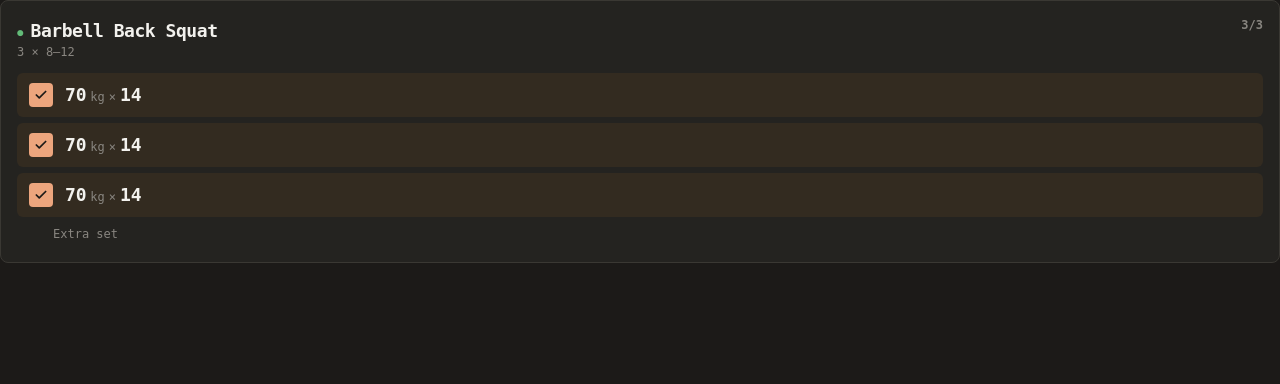
Test: ExerciseCard — Add extra set (Sprint 4 D3b) › tapping the extra-set button twice adds two extras (counter is per-block, additive)
Click the button with aria-label "add extra set": click(86, 234) [53,223,118,246]
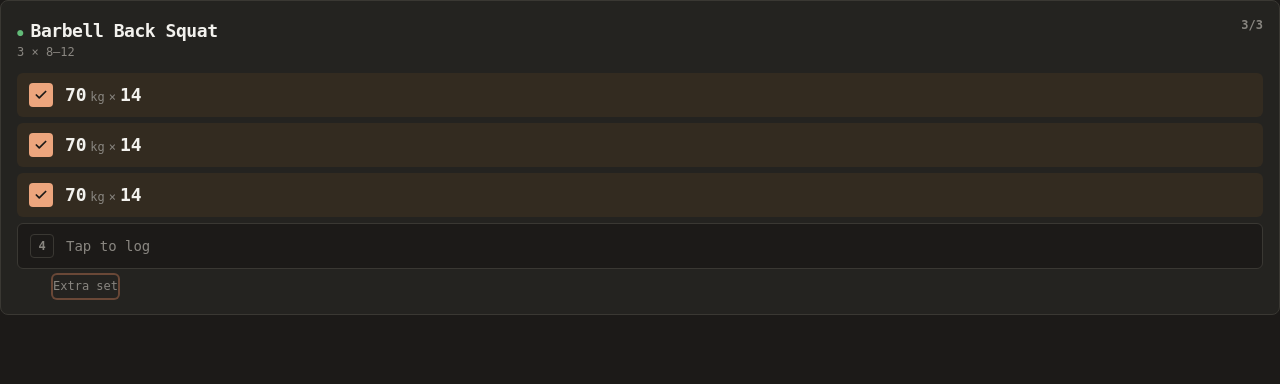
Click the button with aria-label "add extra set": click(86, 286) [53,275,118,298]
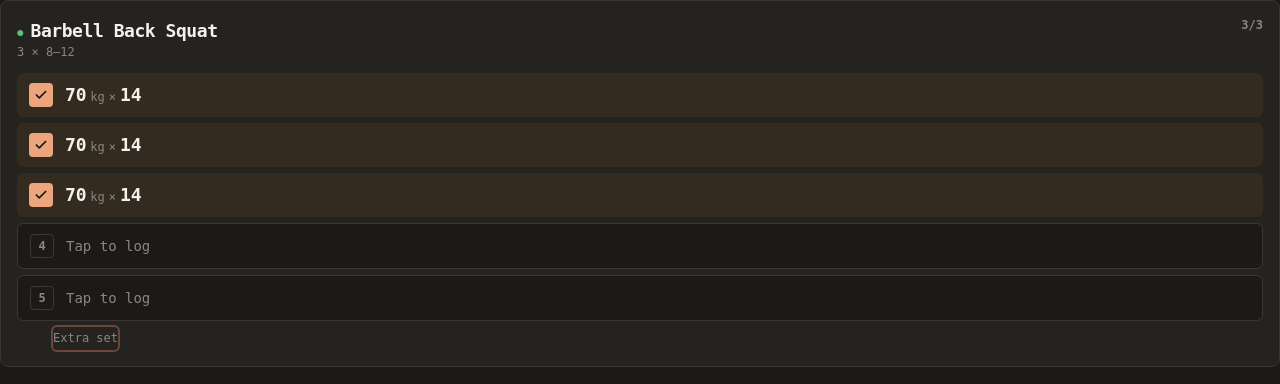
Result: the number of buttons "70 kg × 14" is 5 at [17,73,1263,117]; [17,123,1263,167]; [17,173,1263,217]; [17,223,1263,269]; [17,275,1263,321]
